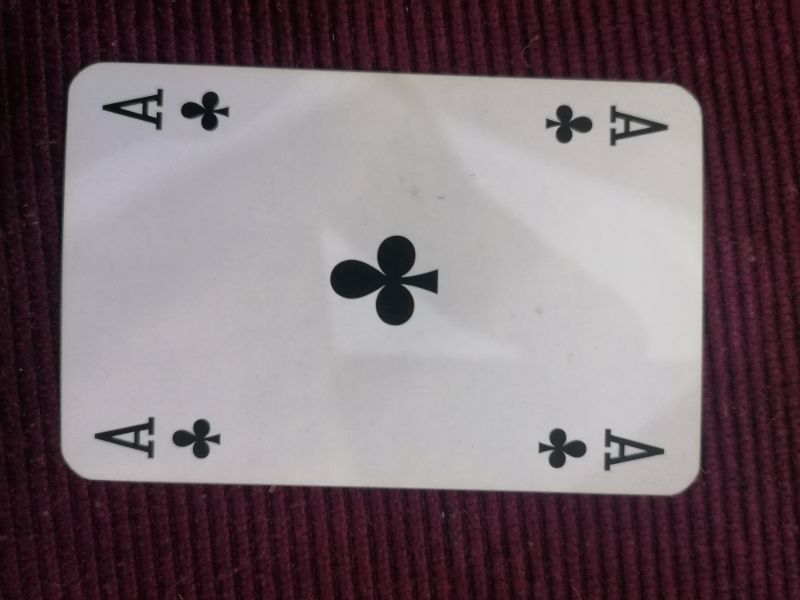Ac: (96, 84, 235, 137), (90, 411, 230, 463), (533, 425, 670, 474), (540, 100, 674, 150)
